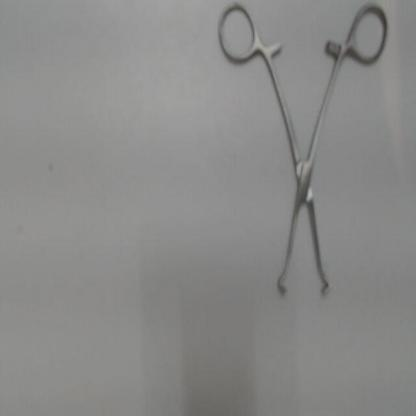Babcock Tissue Forceps: (214, 0, 391, 304)
